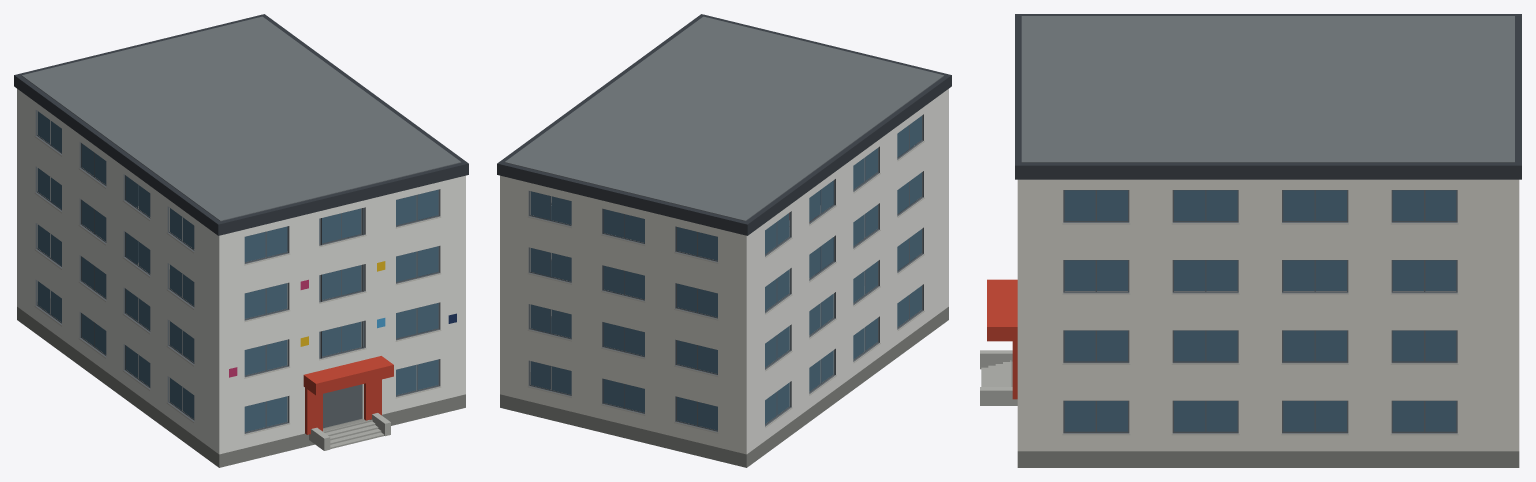
3 renders of one model, left to right at view 1: azimuth 30°, elevation 25°; view 2: azimuth 150°, elevation 25°; view 3: azimuth 270°, elevation 25°, orthographic. The views are drawn at different scales.
Visible parts, largest first — view 1: whiteWall, roof, glass, mansardDark, frame, plinth, terracottaPortal, sill, step-annex-south, stone; view 2: roof, creamWall, whiteWall, glass, mansardDark, plinth, frame, sill; view 3: creamWall, roof, glass, mansardDark, plinth, frame, terracottaPortal, sill, stone, step-annex-south.
Boxes of the visible parts, x1,y1,x2,y2 form: whiteWall: (17,89,465,454); roof: (21,16,461,221); glass: (37,111,438,431); mansardDark: (14,14,468,235); frame: (35,110,440,433); plinth: (17,257,465,467); terracottaPortal: (303,356,393,434); sill: (34,136,441,435); step-annex-south: (323,420,384,448); stone: (309,413,390,450); roof: (504,16,944,221); creamWall: (500,175,746,454); whiteWall: (746,89,948,453); glass: (530,116,921,430); mansardDark: (497,14,951,235); plinth: (500,259,948,467); frame: (528,114,923,432); sill: (527,141,924,433); creamWall: (1017,179,1519,451); roof: (1021,16,1514,162); glass: (1064,190,1456,431); mansardDark: (1015,14,1521,179); plinth: (1017,451,1519,467); frame: (1063,190,1457,433); terracottaPortal: (987,279,1017,399); sill: (1062,223,1458,435); stone: (980,350,1017,405); step-annex-south: (981,360,1011,386).
Bounding box in the file's own units: 15.74 × 14.73 × 23.77.
